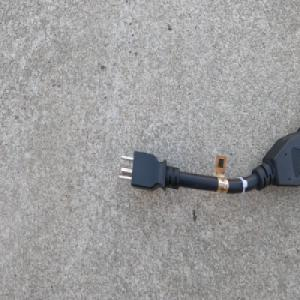Wire: (116, 125, 300, 205)
